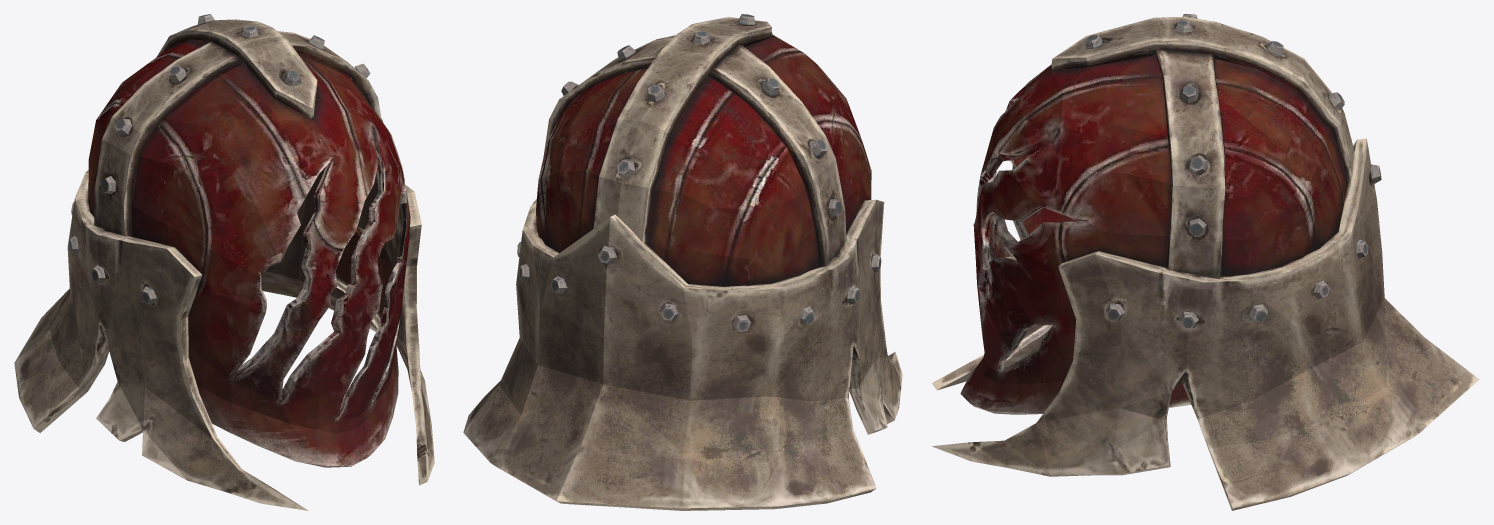
3 renders of one model, left to right at view 1: azimuth 30°, elevation 25°; view 2: azimuth 150°, elevation 25°; view 3: azimuth 270°, elevation 25°, orthographic. The views are drawn at different scales.
Parts seen in each view (by area): view 1: Helmet; view 2: Helmet; view 3: Helmet.
Part boxes in pixels (left/top/right/bottom): Helmet: left=14, top=14, right=434, bottom=510; Helmet: left=463, top=14, right=902, bottom=510; Helmet: left=932, top=14, right=1479, bottom=510.
Size of the model in its own units: 28.09 by 27.38 by 33.98.
1 material, 1 textured.
